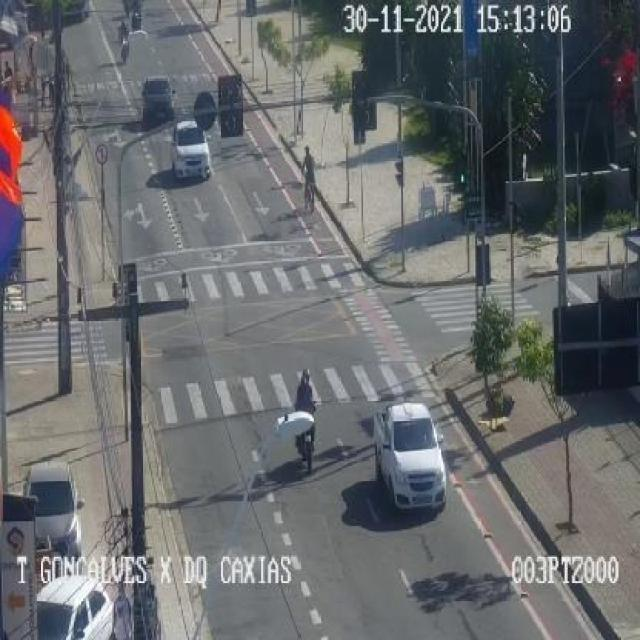Car: (364, 376, 453, 526), (8, 445, 96, 564), (9, 572, 136, 640), (128, 65, 183, 123), (166, 117, 217, 179)
Cycle: (280, 345, 341, 471), (282, 138, 341, 222), (107, 25, 145, 71)
